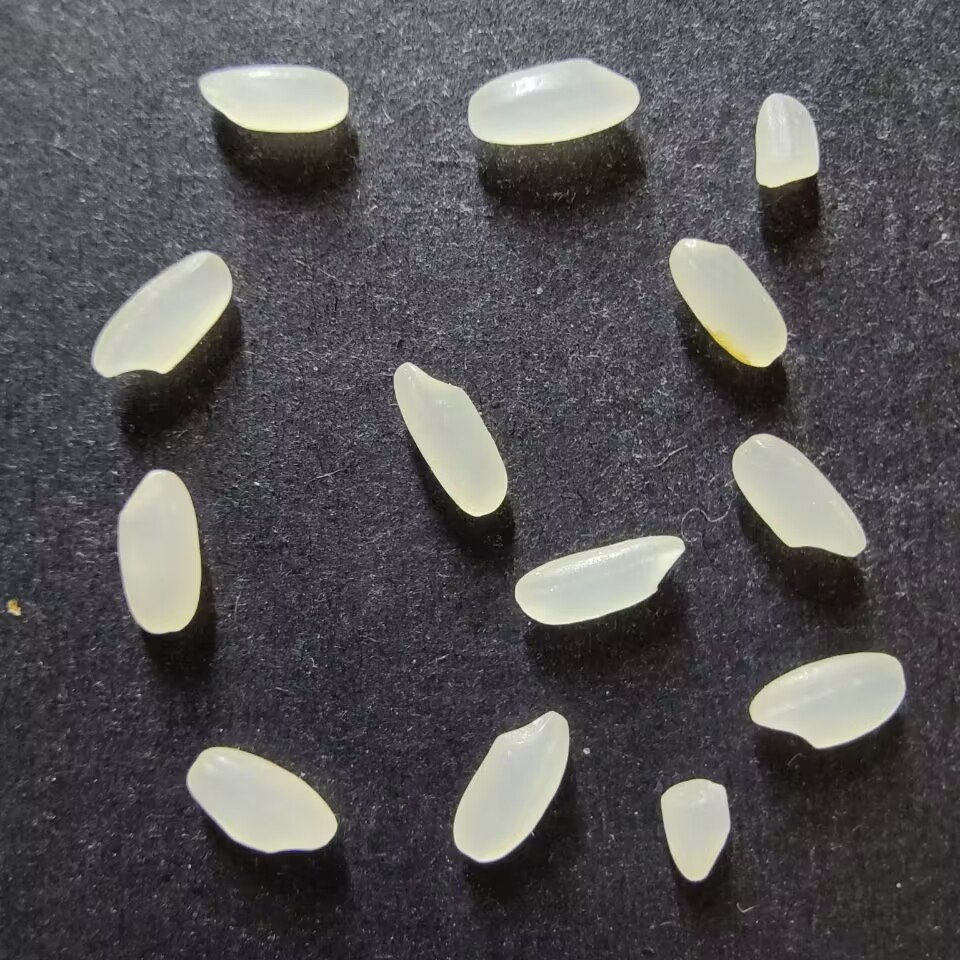broken: (661, 778, 732, 883), (754, 92, 820, 187)
rice: (91, 250, 234, 378), (453, 710, 571, 864), (393, 362, 509, 517), (732, 432, 868, 557), (186, 745, 339, 853), (514, 534, 687, 625), (749, 651, 907, 750), (669, 237, 789, 367), (467, 58, 641, 145), (117, 469, 202, 635), (199, 65, 350, 133)
